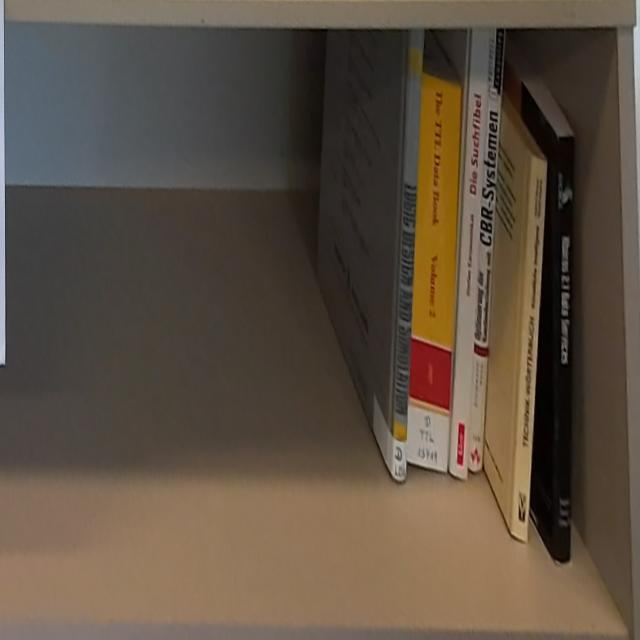Book Spine: (404, 65, 465, 476), (450, 30, 490, 481), (468, 27, 506, 474), (391, 27, 427, 486), (513, 157, 548, 542), (556, 136, 574, 563)
